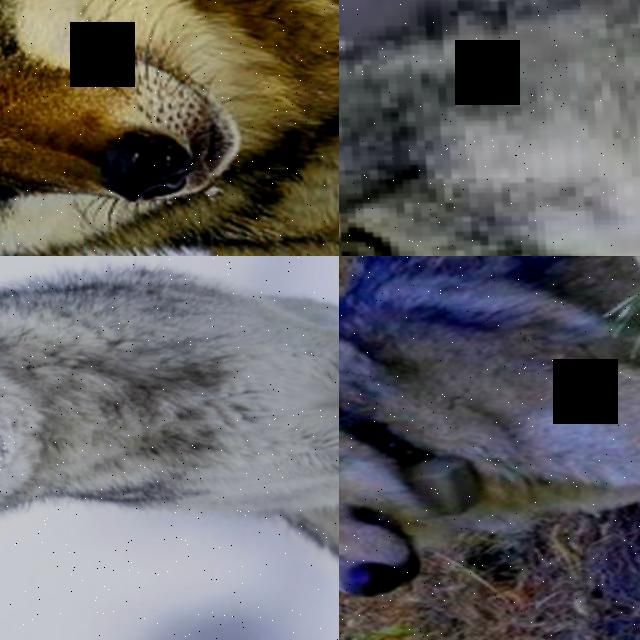wolf: (0, 256, 339, 640), (339, 256, 640, 640), (0, 0, 339, 256), (339, 0, 640, 256)
